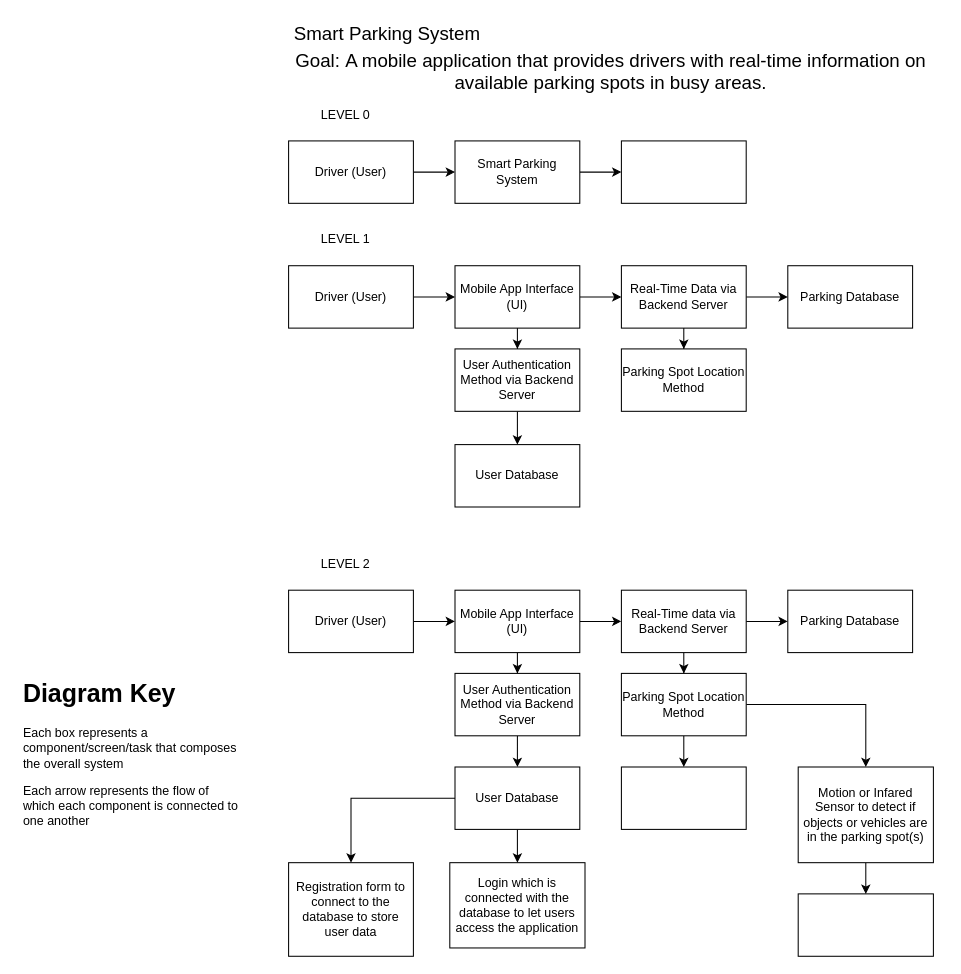
Some shapes in this 961 by 974 pixel diagram are drawn without their labels. Here are the shapes that lost their labels. From the top down, the centre of each, then its label:
pixel 683 171: Available Parking Spots
pixel 683 797: GPS to locate exact parking garage/lot back to the user
pixel 865 924: Data Analysis method to process and send back the data to the database
